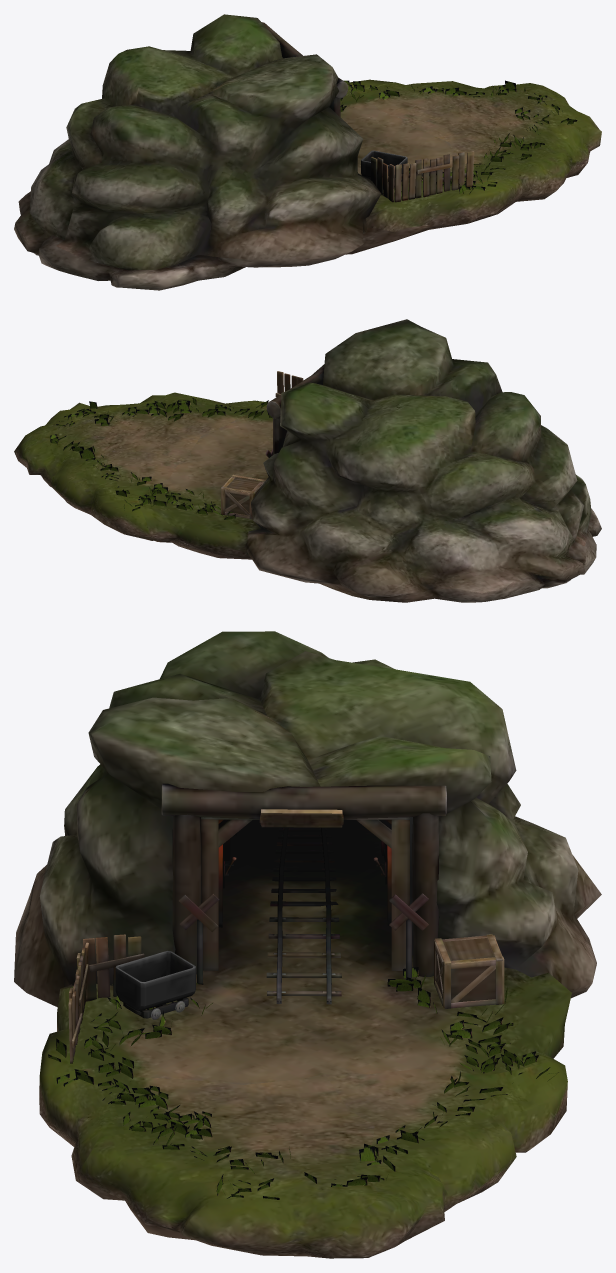
The model's file is SM_PalExpeditionFacilities_8860b5.glb.
The picture shows the model from 3 angles, top to bottom: view 1: azimuth 30°, elevation 25°; view 2: azimuth 150°, elevation 25°; view 3: azimuth 270°, elevation 25°; orthographic projection. The views are drawn at different scales.
Bounding box in the file's own units: 30.8 × 9.16 × 16.46.
6 materials, 6 textured.
